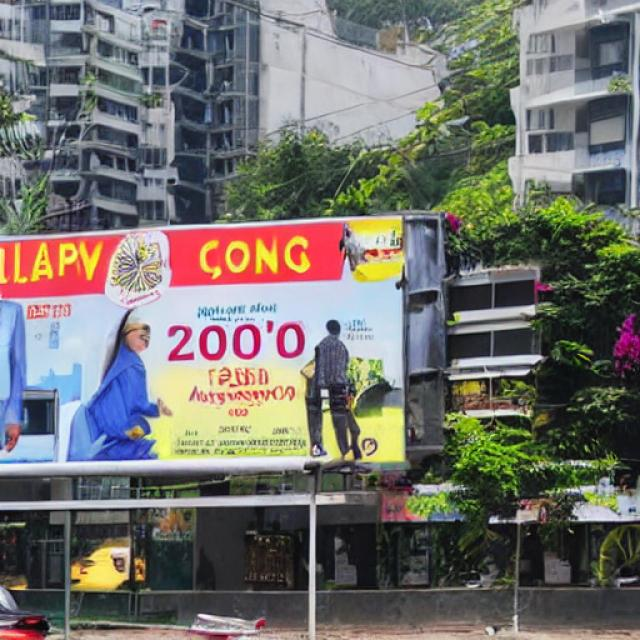Billboard: (0, 210, 415, 477)
